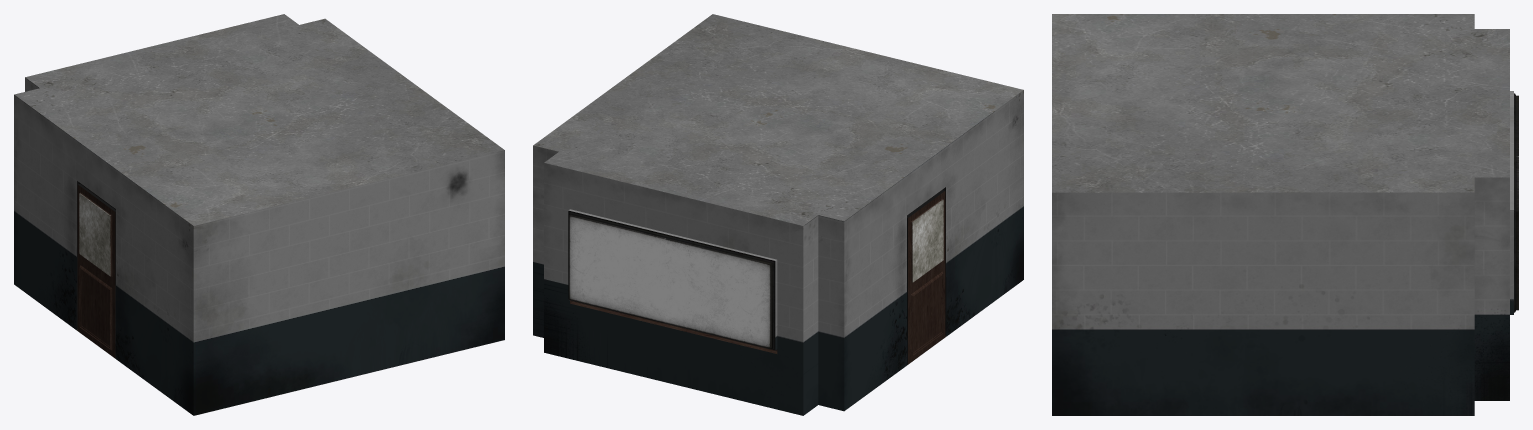
Rendered from interrogationRoom2.fbx.
3 renders of one model, left to right at view 1: azimuth 30°, elevation 25°; view 2: azimuth 150°, elevation 25°; view 3: azimuth 270°, elevation 25°, orthographic. The views are drawn at different scales.
Visible parts, largest first — view 1: wall4, ceiling, wall1, door; view 2: wall2, ceiling, wall1, door; view 3: wall3, ceiling, wall2.
Boxes of the visible parts, x1=… form: wall4: x1=193, y1=150, x2=504, y2=415; ceiling: x1=14, y1=14, x2=504, y2=225; wall1: x1=14, y1=95, x2=193, y2=415; door: x1=76, y1=181, x2=115, y2=358; wall2: x1=533, y1=145, x2=844, y2=415; ceiling: x1=533, y1=14, x2=1023, y2=225; wall1: x1=844, y1=90, x2=1023, y2=410; door: x1=907, y1=187, x2=946, y2=364; wall3: x1=1052, y1=192, x2=1474, y2=415; ceiling: x1=1052, y1=14, x2=1509, y2=192; wall2: x1=1474, y1=91, x2=1518, y2=400.
Bounding box in the file's own units: 182 × 106 × 200.
